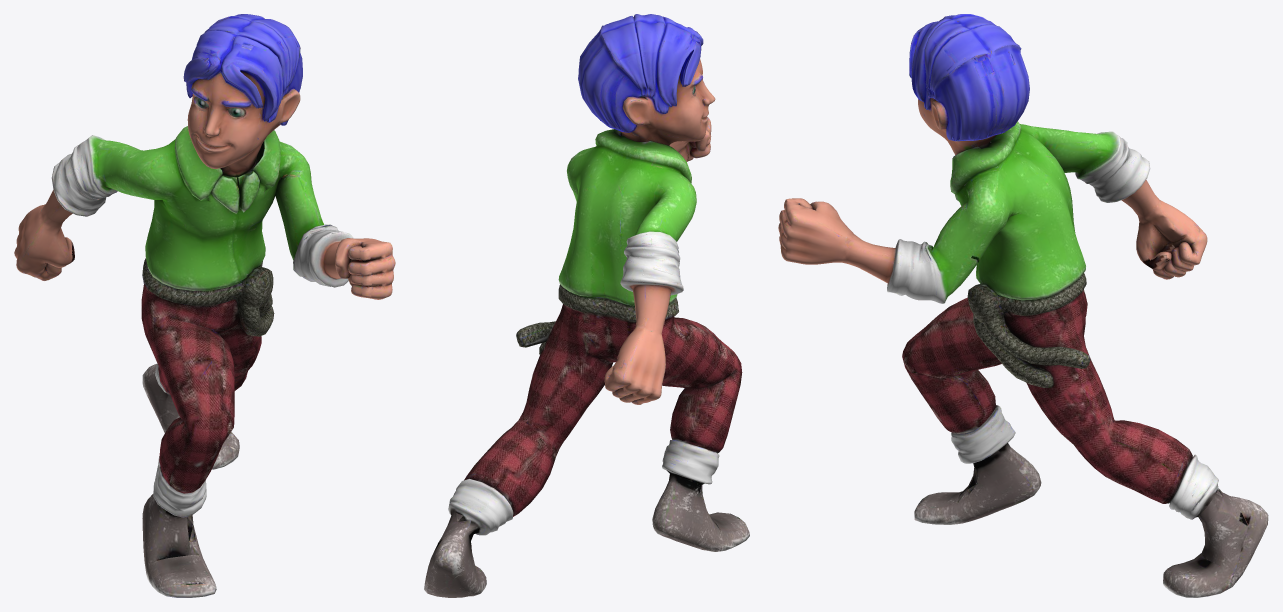
File: MZ4250 - Child Male.glb
3 renders of one model, left to right at view 1: azimuth 30°, elevation 25°; view 2: azimuth 150°, elevation 25°; view 3: azimuth 270°, elevation 25°, orthographic. The views are drawn at different scales.
Parts seen in each view (by area): view 1: MZ4250 - Child Male; view 2: MZ4250 - Child Male; view 3: MZ4250 - Child Male.
Part boxes in pixels (left/top/right/bottom): MZ4250 - Child Male: left=14, top=14, right=395, bottom=597; MZ4250 - Child Male: left=424, top=14, right=749, bottom=597; MZ4250 - Child Male: left=778, top=14, right=1268, bottom=597.
Size of the model in its own units: 0.3045 by 0.6777 by 0.5753.
Materials: 1 (1 with a texture image).
